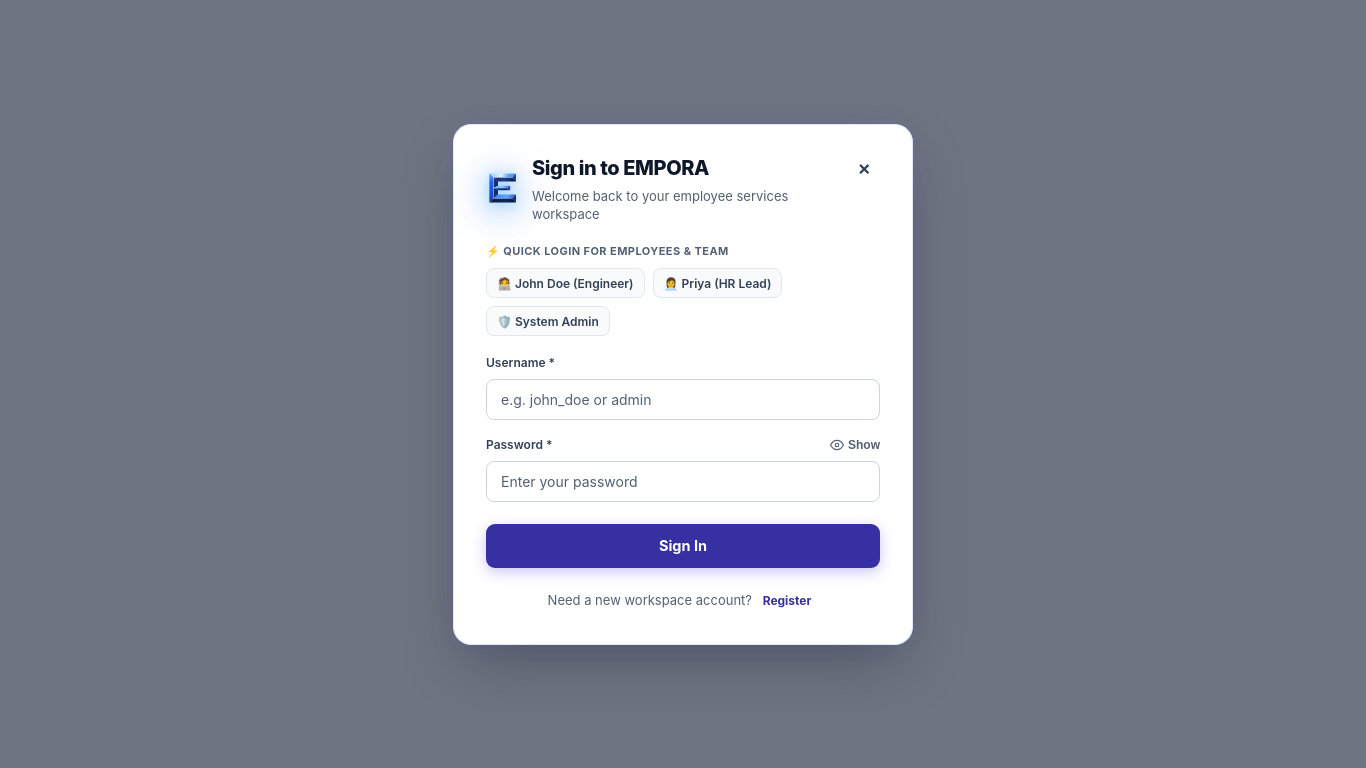
Test case: P9.6 Stage I — Comprehensive Frontend Interaction, Validation & Error Recovery Suite › P96-FE-03: LoginModal displays RFC 7807 error detail on failed login and switches to Register mode cleanly
The width and height of the screenshot is (1366, 768).
Type "wrong_user" into the field labelled "Username *" at (683, 399), box top-left (486, 379), bottom-right (880, 420)
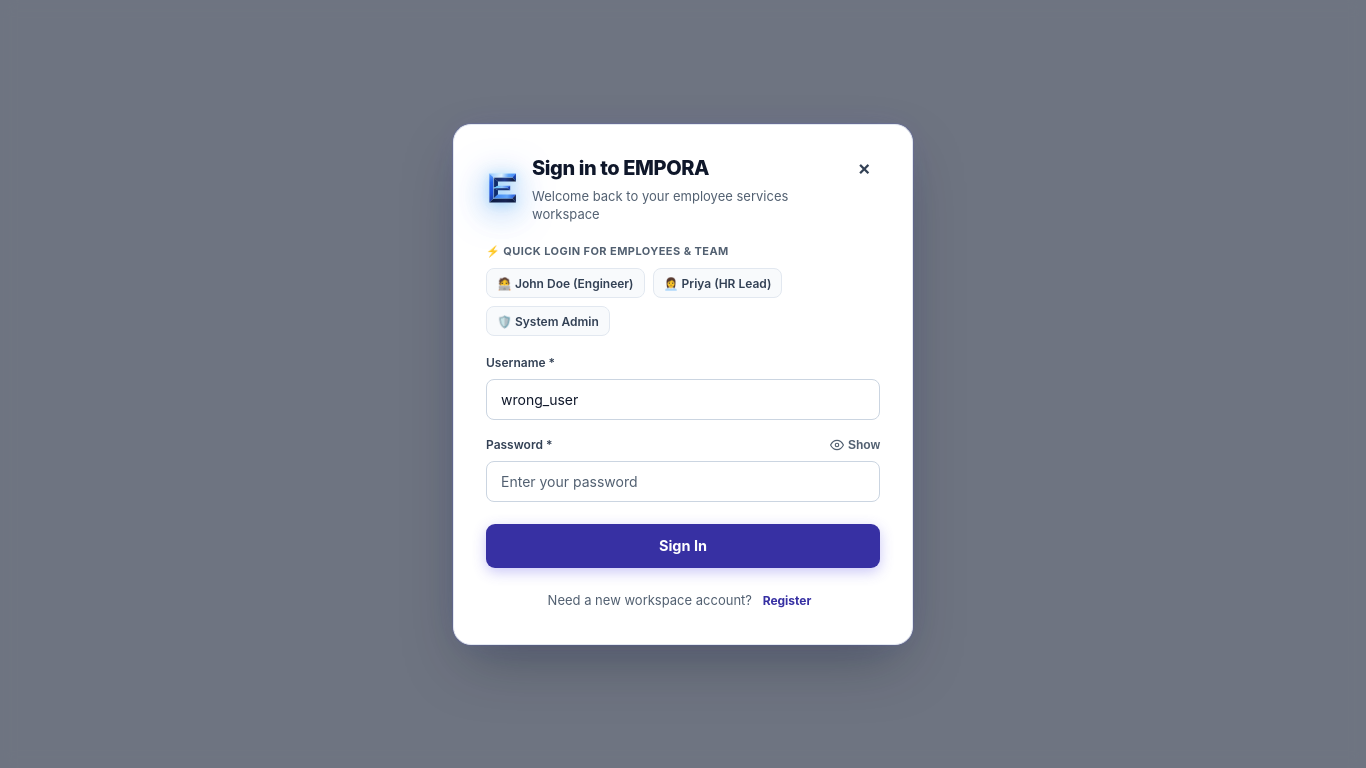
Type "wrong_pass" into the password field labelled "Password *" at (683, 481), box top-left (486, 460), bottom-right (880, 501)
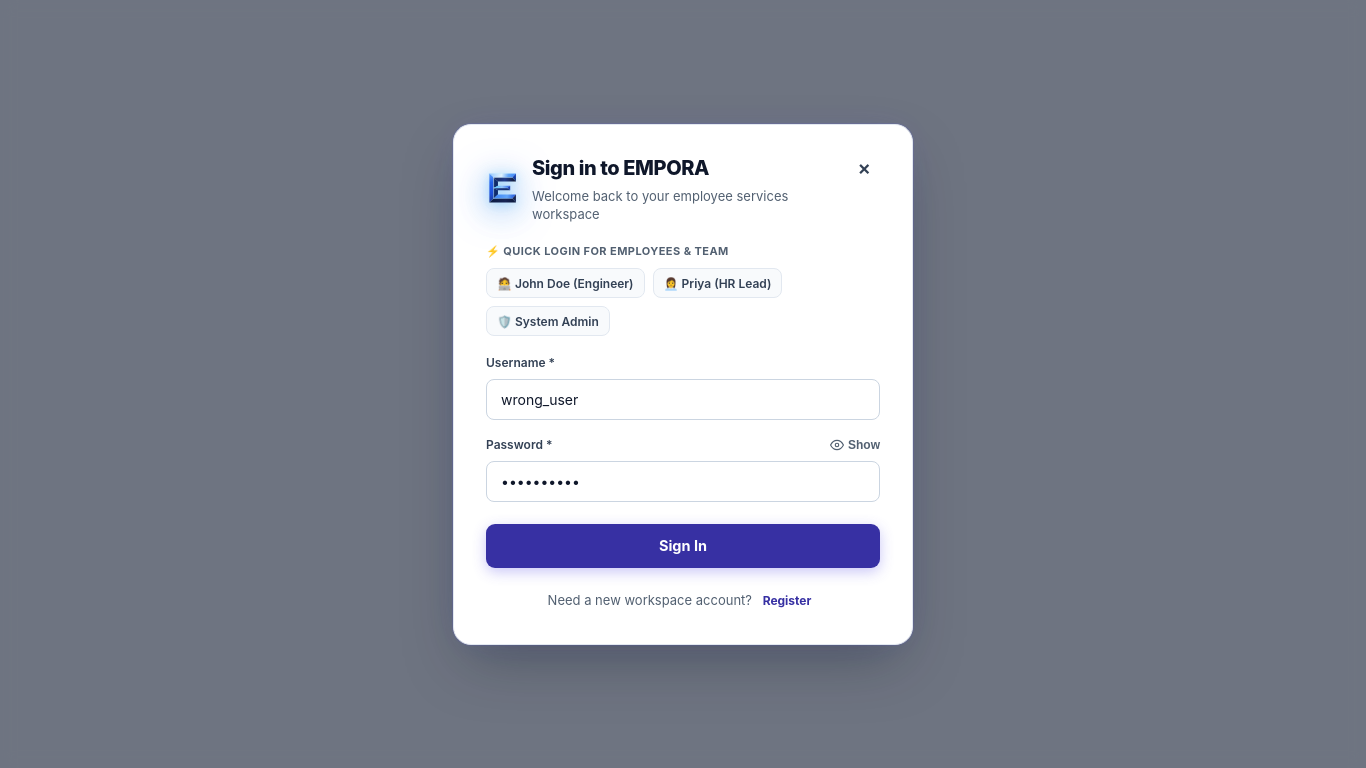
Submit the form, box top-left (486, 354), bottom-right (880, 567)
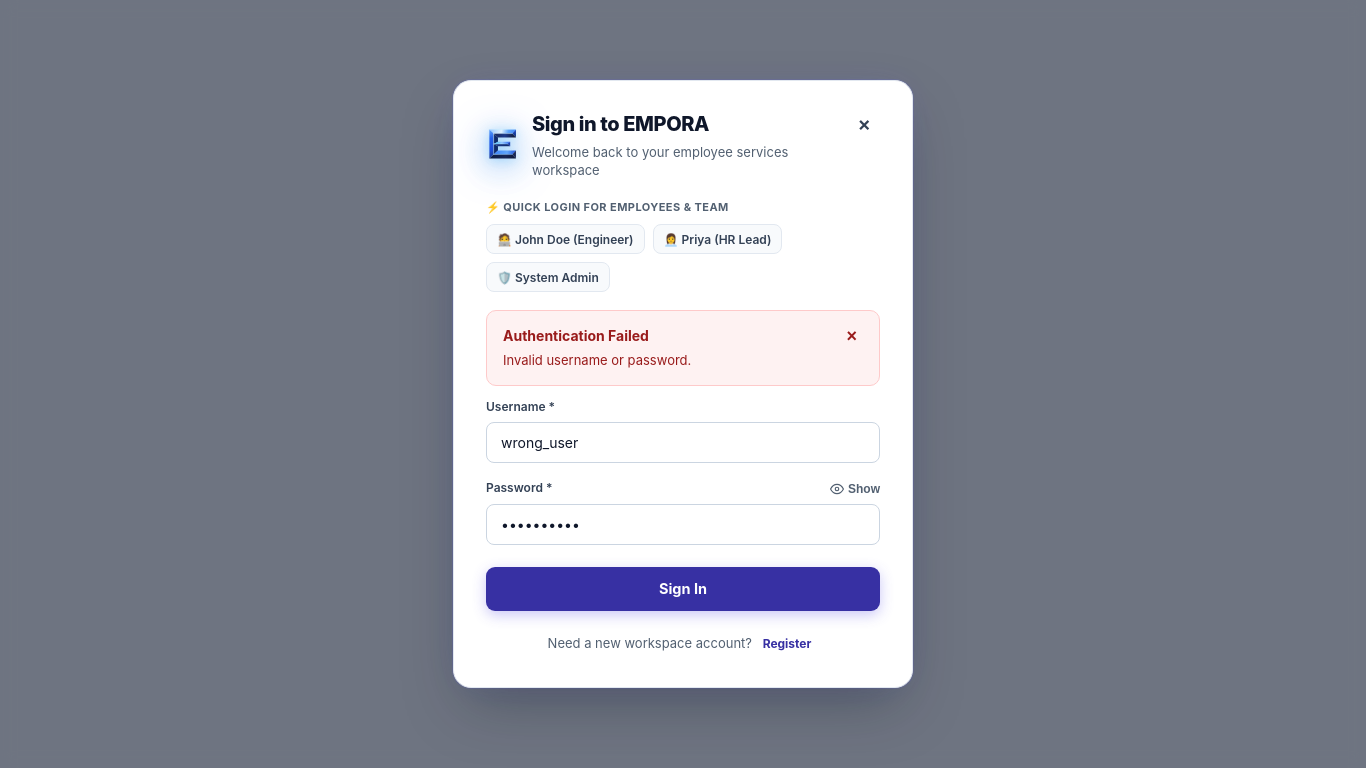
Expected: the text "Invalid username or password." is shown, top-left (503, 351), bottom-right (691, 371)
Click the button "Register" at (787, 644), box top-left (756, 629), bottom-right (818, 659)
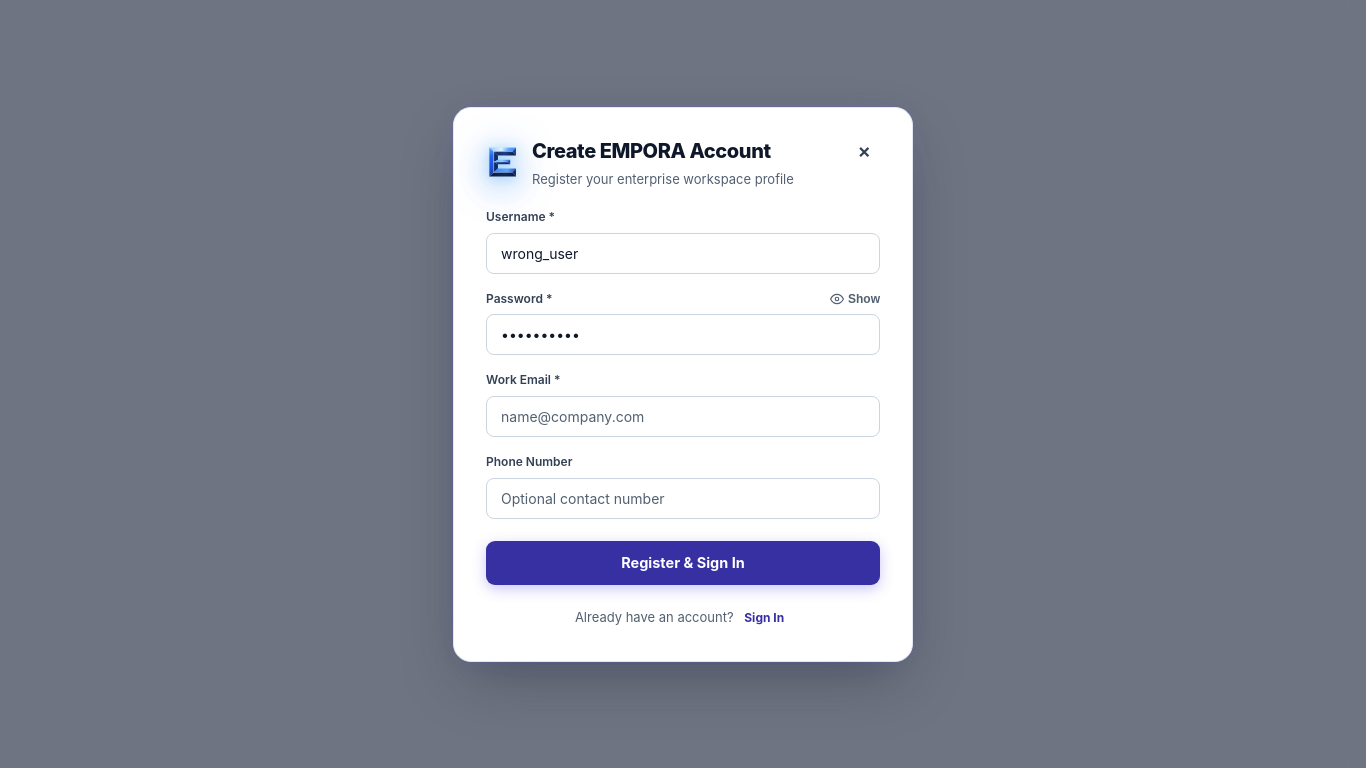
Expected: the field labelled "Work Email *" is shown, top-left (486, 396), bottom-right (880, 437)
